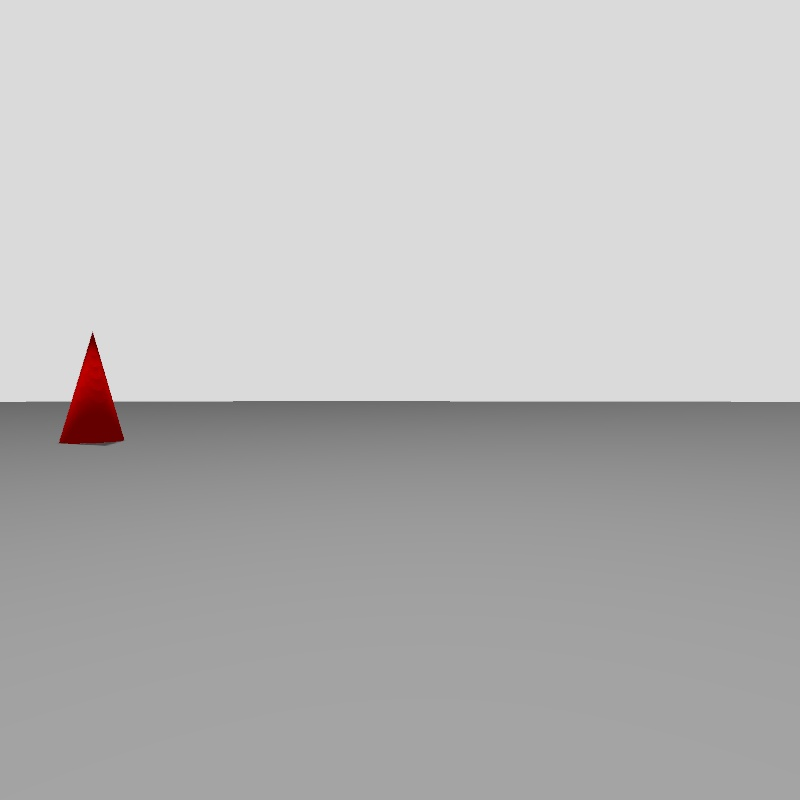Red_cone: (60, 333, 123, 445)
